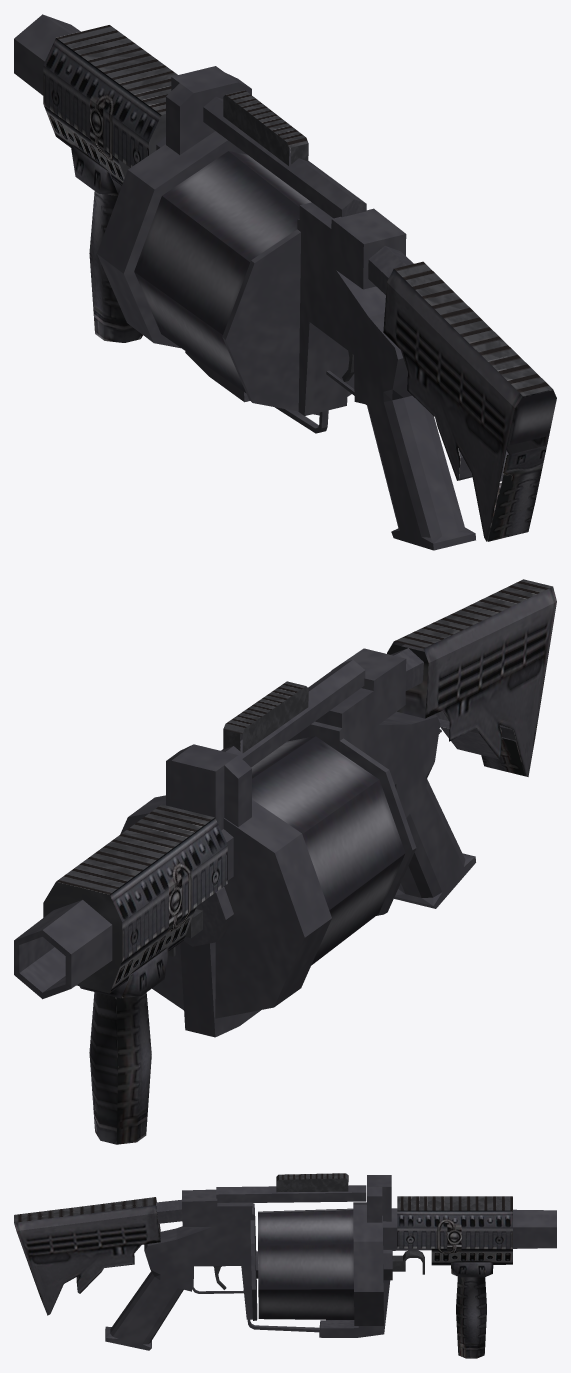
The model's file is GrenadeLauncher.fbx.
3 renders of one model, top to bottom at view 1: azimuth 30°, elevation 25°; view 2: azimuth 150°, elevation 25°; view 3: azimuth 270°, elevation 25°, orthographic. The views are drawn at different scales.
Visible parts, largest first — view 1: Cube, Cube.003, Cylinder.001, Cylinder.002, Cube.001, Cube.002, Cylinder.004, Cube.004, Cube.006, Cylinder, Cylinder.003, Cube.005; view 2: Cylinder.002, Cube.003, Cube.001, Cylinder.001, Cube, Cube.002, Cylinder, Cube.004, Cube.005, Cylinder.004, Cube.006, Cylinder.003; view 3: Cylinder.001, Cube, Cube.003, Cube.001, Cylinder.002, Cube.002, Cylinder, Cylinder.004, Cube.005, Cube.006, Cube.004, Cylinder.003 (+1 smaller).
Part boxes in pixels (x1,y1,x2,y2): Cube: [297, 202, 475, 550]; Cube.003: [383, 261, 556, 541]; Cylinder.001: [134, 151, 311, 392]; Cylinder.002: [97, 131, 354, 415]; Cube.001: [43, 25, 177, 185]; Cube.002: [70, 144, 142, 342]; Cylinder.004: [203, 97, 366, 218]; Cube.004: [166, 66, 251, 154]; Cube.006: [223, 90, 308, 165]; Cylinder: [14, 14, 165, 150]; Cylinder.003: [368, 246, 413, 294]; Cube.005: [185, 351, 328, 433]; Cylinder.002: [120, 734, 416, 1018]; Cube.003: [387, 579, 556, 776]; Cube.001: [43, 804, 227, 993]; Cylinder.001: [251, 736, 405, 965]; Cube: [297, 648, 475, 908]; Cube.002: [79, 947, 169, 1144]; Cylinder: [14, 829, 233, 999]; Cube.004: [166, 744, 251, 830]; Cube.005: [180, 941, 260, 1037]; Cylinder.004: [221, 660, 365, 767]; Cube.006: [223, 681, 308, 752]; Cylinder.003: [390, 648, 423, 690]; Cylinder.001: [258, 1208, 354, 1319]; Cube: [105, 1189, 257, 1350]; Cube.003: [14, 1197, 160, 1315]; Cube.001: [397, 1196, 512, 1265]; Cylinder.002: [250, 1202, 392, 1325]; Cube.002: [451, 1262, 493, 1358]; Cylinder: [383, 1208, 556, 1250]; Cylinder.004: [216, 1185, 366, 1202]; Cube.005: [247, 1280, 390, 1337]; Cube.006: [276, 1173, 348, 1192]; Cube.004: [367, 1175, 391, 1222]; Cylinder.003: [156, 1199, 182, 1223].
Bounding box in the file's own units: 267 × 396 × 1099.
